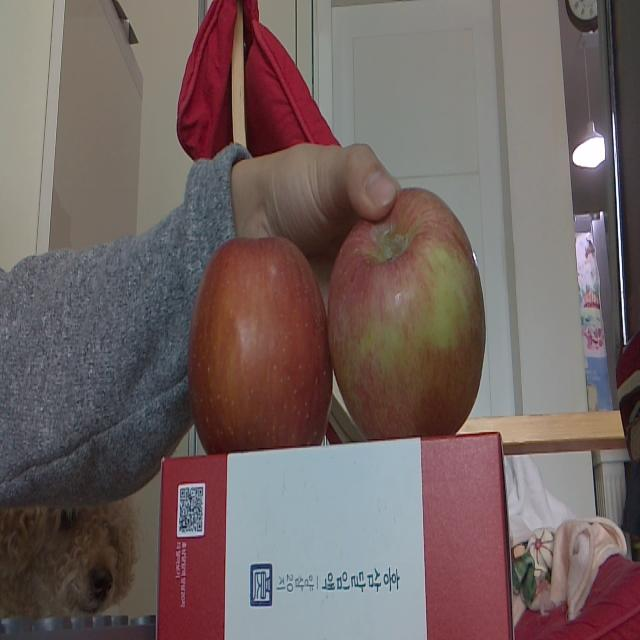apple: (329, 190, 485, 434), (188, 238, 332, 447)
